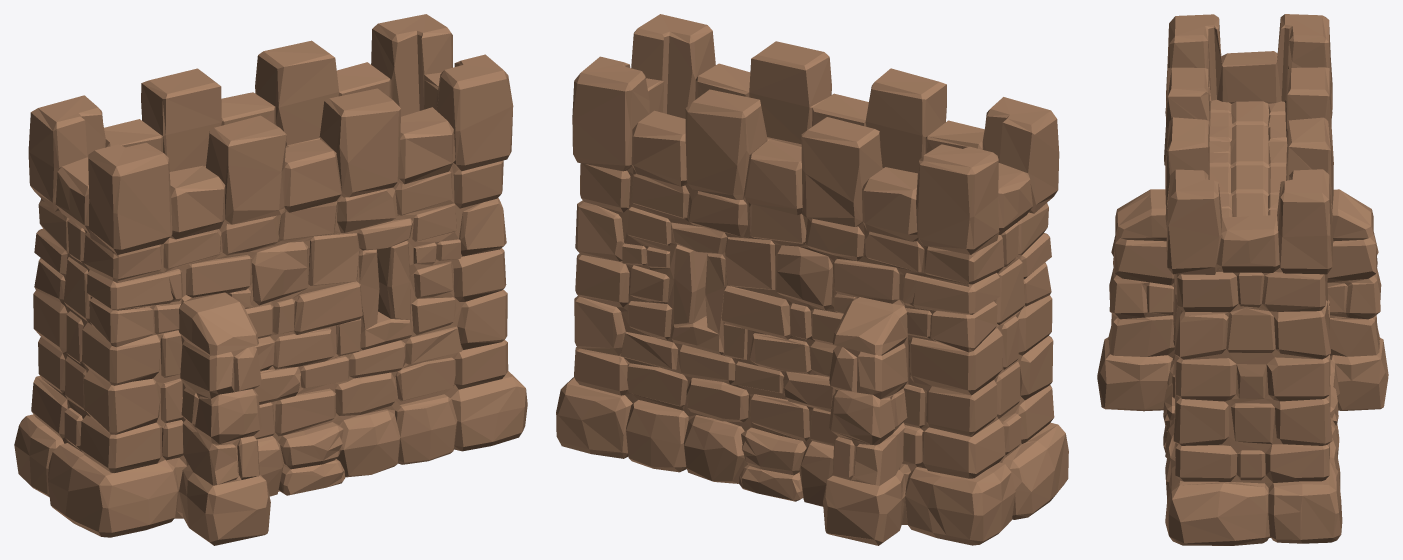
Rendered from CastleWall.fbx.
The picture shows the model from 3 angles, left to right: view 1: azimuth 30°, elevation 25°; view 2: azimuth 150°, elevation 25°; view 3: azimuth 270°, elevation 25°; orthographic projection. The views are drawn at different scales.
Visible parts, largest first — view 1: CastleWall_LOD0; view 2: CastleWall_LOD0; view 3: CastleWall_LOD0.
Part boxes in pixels (bbox=[...]): CastleWall_LOD0: bbox=[14, 14, 527, 545]; CastleWall_LOD0: bbox=[556, 14, 1068, 545]; CastleWall_LOD0: bbox=[1097, 14, 1388, 545].
Size of what is drawn, in the model's own units: 7.73 by 4.74 by 6.19.
